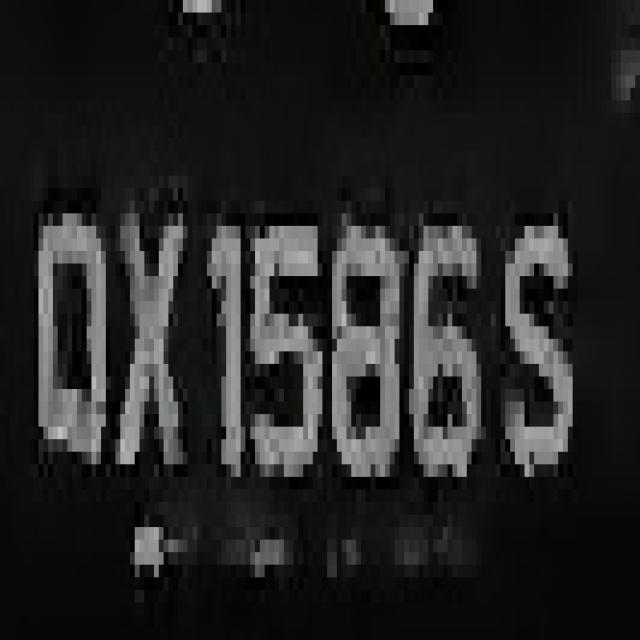1: (207, 163, 250, 515)
5: (250, 188, 332, 527)
6: (404, 163, 486, 527)
8: (332, 188, 399, 502)
Q: (20, 150, 120, 514)
S: (491, 188, 582, 515)
X: (101, 138, 193, 489)
